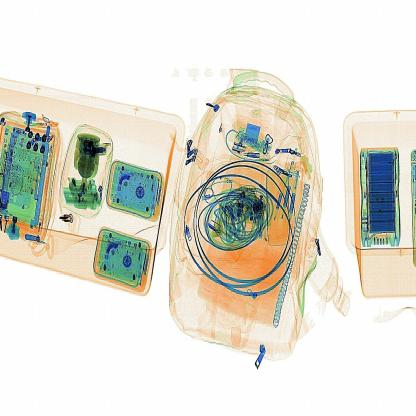wrench: (51, 208, 78, 235)
